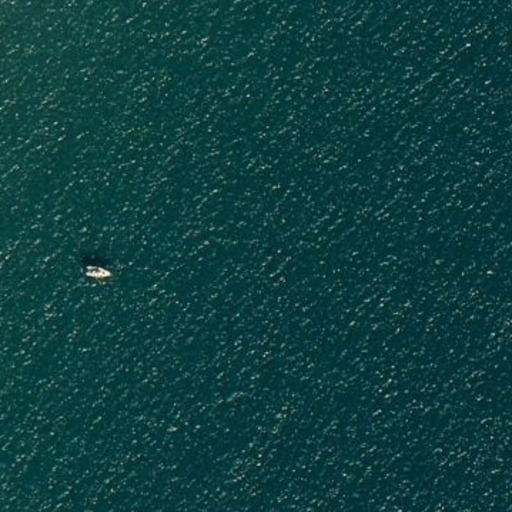ship: (81, 263, 112, 281)
